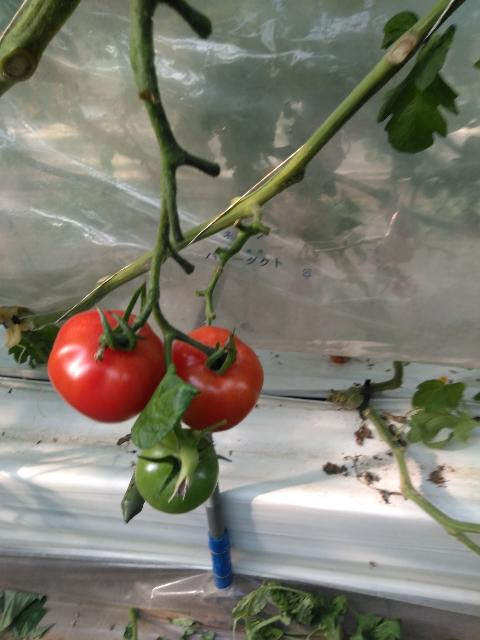l_fully_ripened: (47, 308, 169, 423), (167, 325, 264, 432)
l_green: (134, 429, 219, 514)
